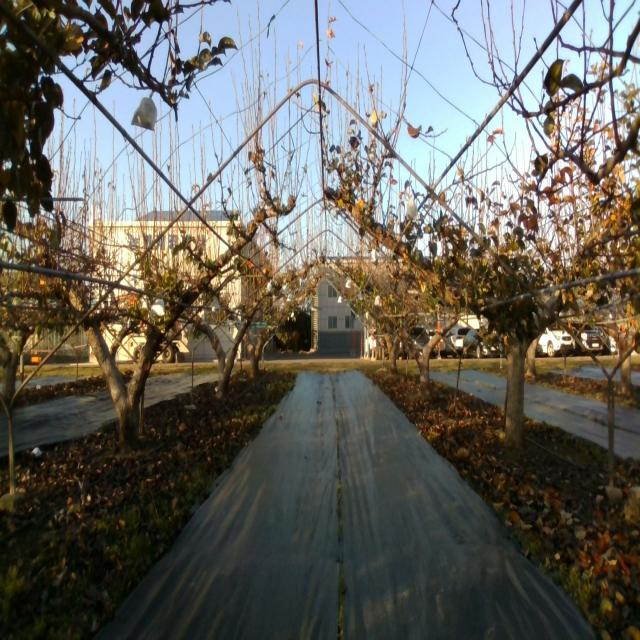pearbags: (131, 98, 158, 132), (406, 194, 421, 223), (149, 298, 165, 316)
